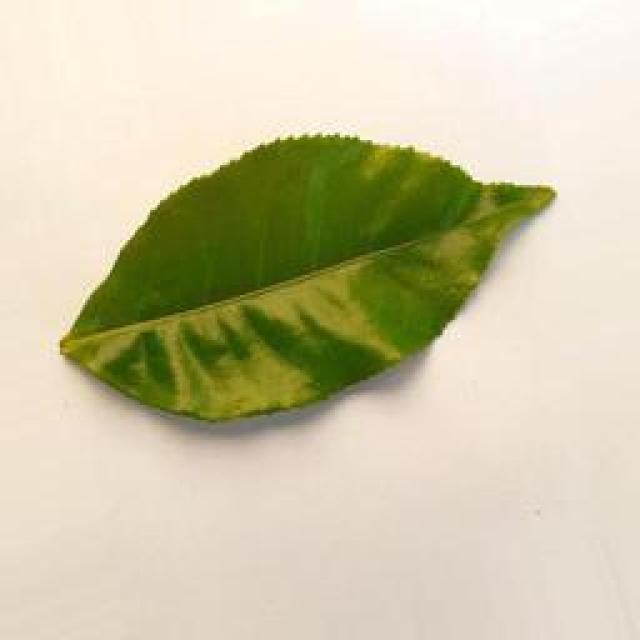Healthy: (51, 134, 551, 432)
